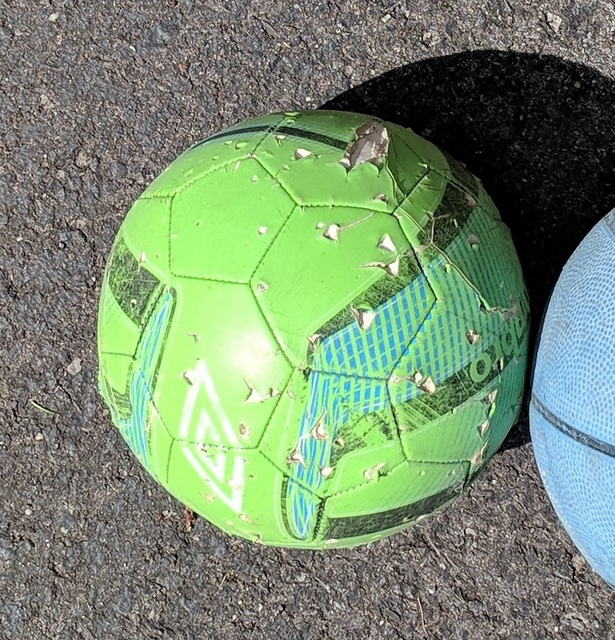ball: (94, 112, 534, 546)
